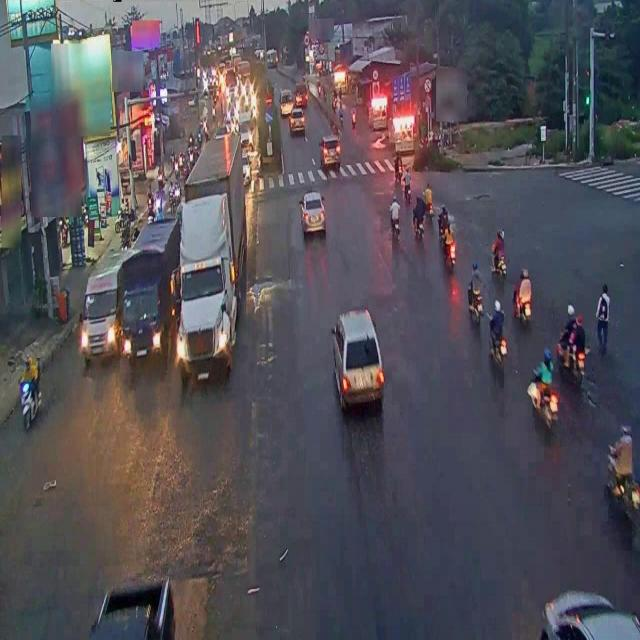car: (329, 302, 385, 408), (298, 188, 326, 240)
motorcycle: (606, 420, 640, 522), (556, 296, 586, 389), (528, 348, 558, 428), (15, 353, 42, 427), (487, 296, 509, 369), (466, 258, 486, 326), (512, 266, 534, 327), (488, 224, 508, 276), (387, 192, 401, 243)
truck: (179, 127, 247, 386), (123, 216, 177, 369), (81, 241, 124, 360)
